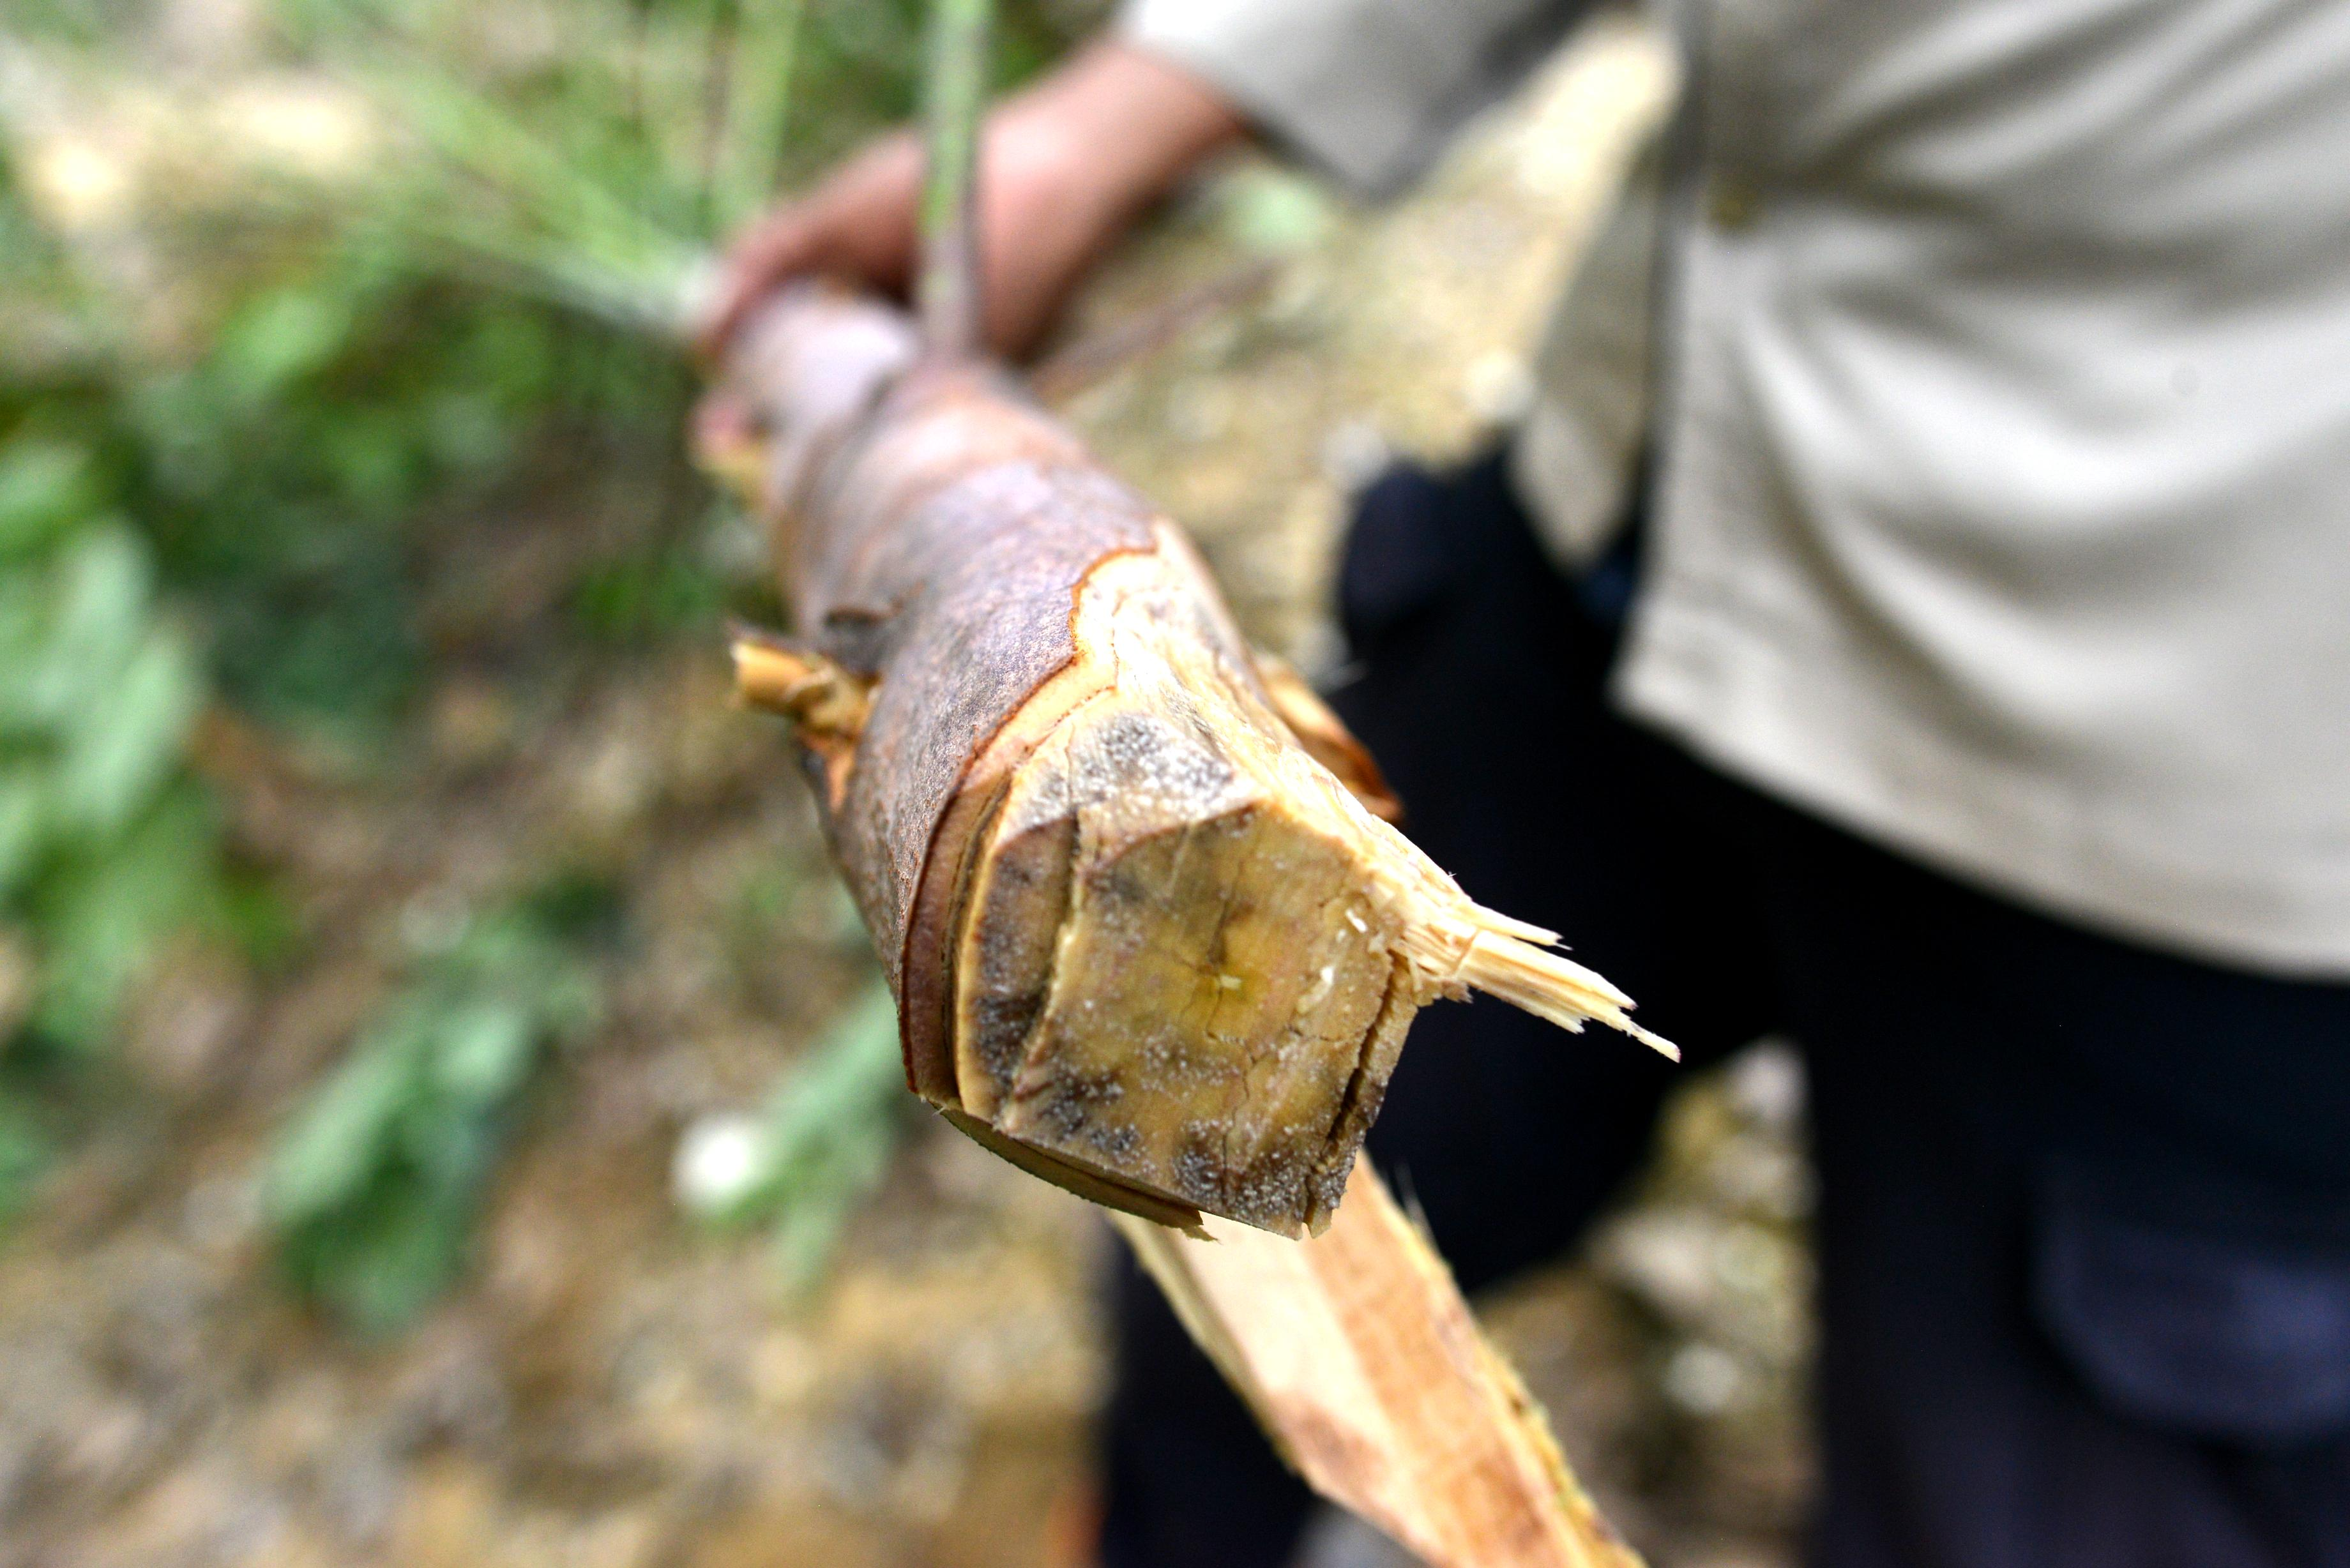Ralstonia: (964, 871, 1391, 1239), (1018, 724, 1258, 856)
